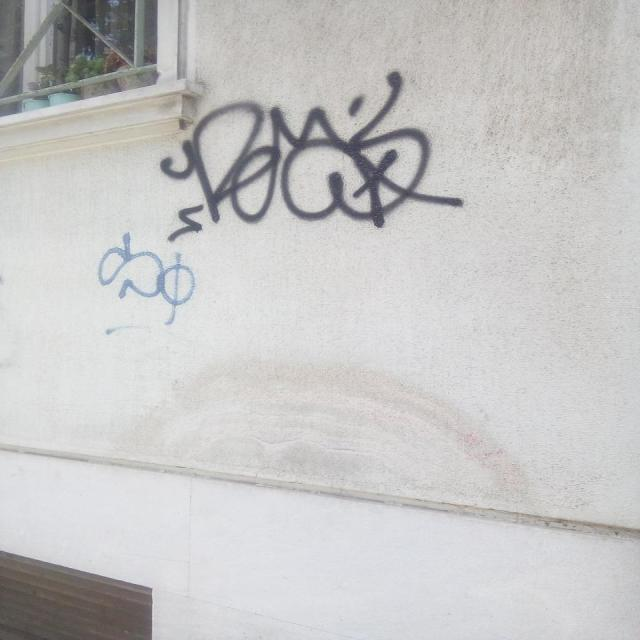nonspitting: (160, 68, 464, 245), (96, 232, 197, 325)
